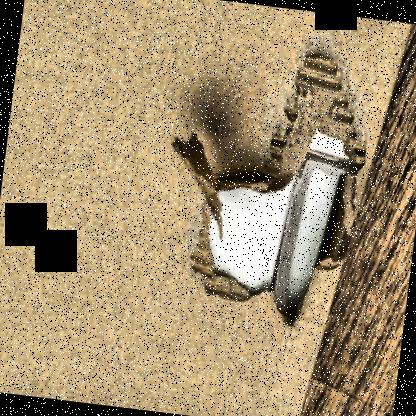defect parcel: (128, 0, 413, 391)
